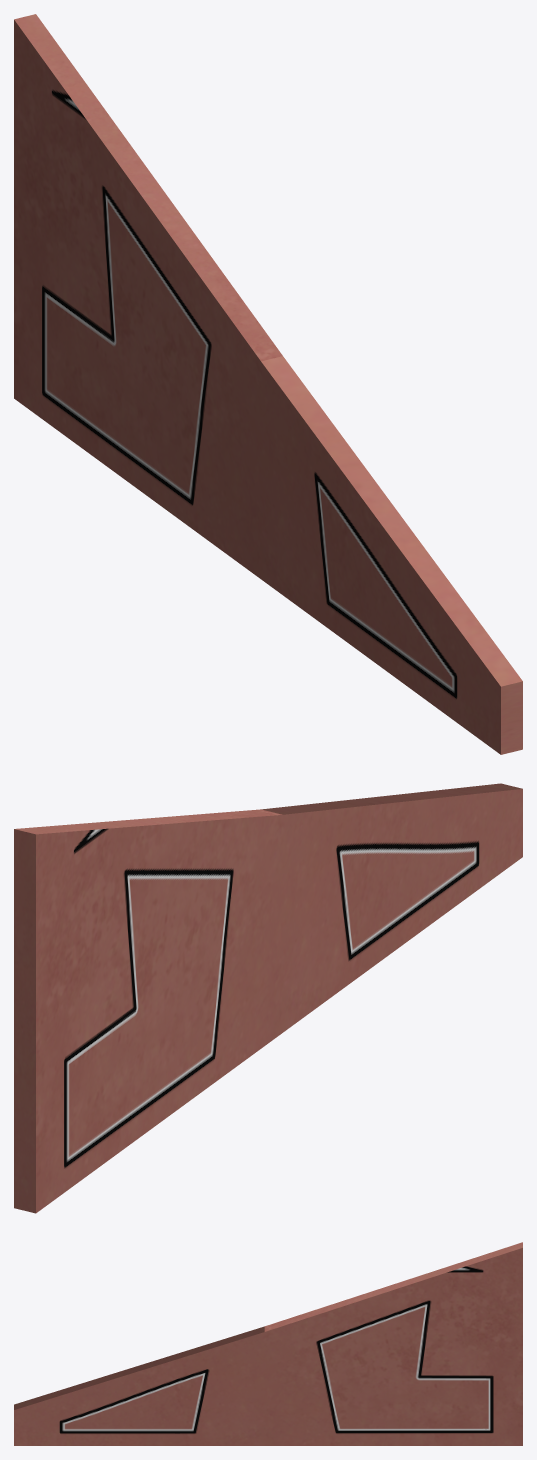
Rendered from SM_TopWall01Q.fbx.
3 views of the same model, one above another, from view 1: azimuth 30°, elevation 25°; view 2: azimuth 150°, elevation 25°; view 3: azimuth 270°, elevation 25° (orthographic). The views are drawn at different scales.
Parts seen in each view (by area): view 1: SM_TopWall01Q; view 2: SM_TopWall01Q; view 3: SM_TopWall01Q.
Part boxes in pixels (x1,y1,x2,y2): SM_TopWall01Q: (14, 14, 522, 754); SM_TopWall01Q: (14, 783, 522, 1213); SM_TopWall01Q: (14, 1242, 522, 1445).
Size of the model in its own units: 6.19 by 237 by 102.
